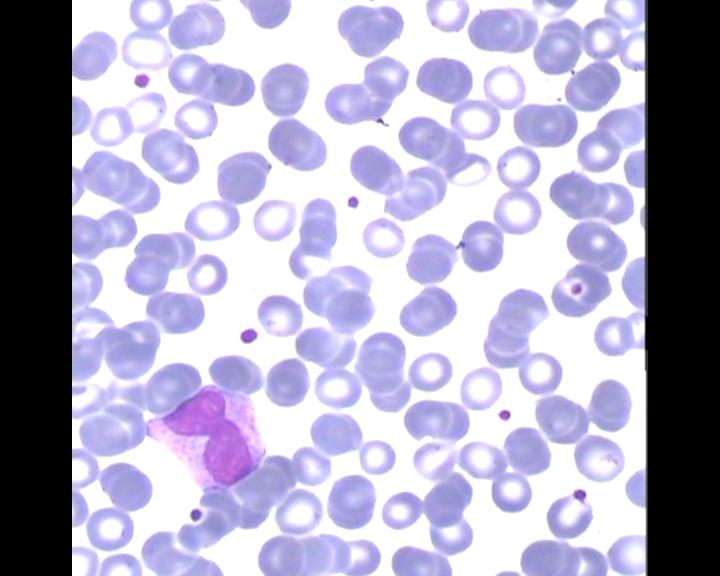mono: (144, 382, 264, 494)
